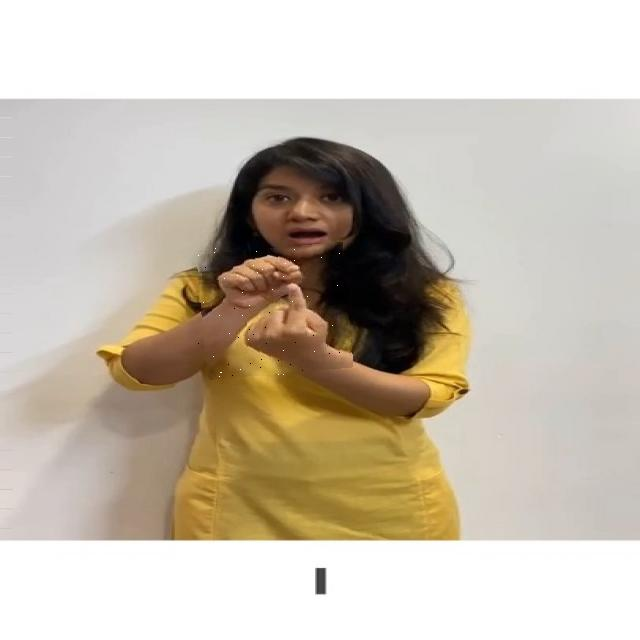I: (198, 245, 350, 377)
